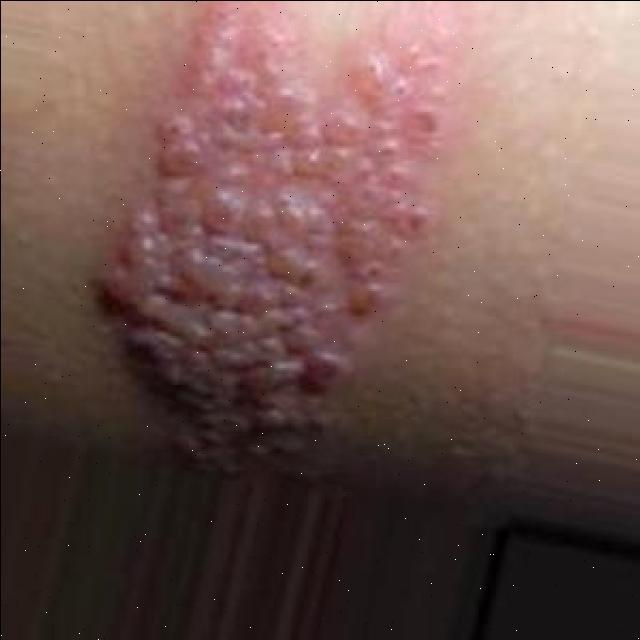Shingles: (89, 0, 449, 468)
